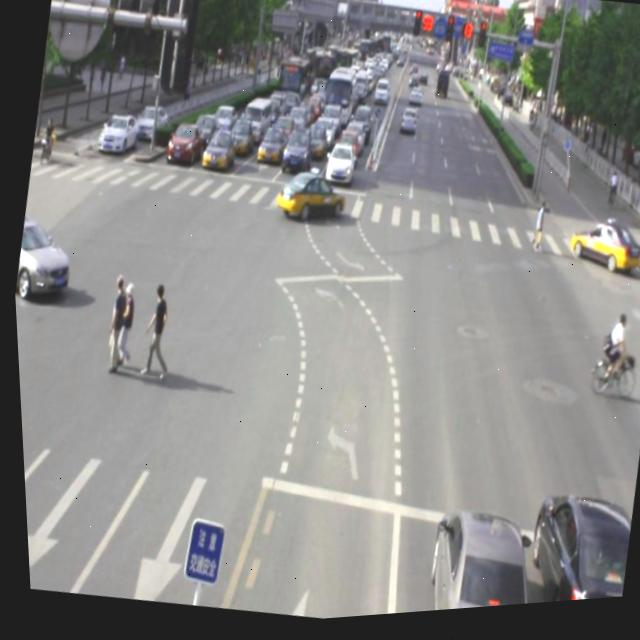car: (506, 498, 630, 612), (410, 511, 533, 617), (270, 166, 345, 229)
